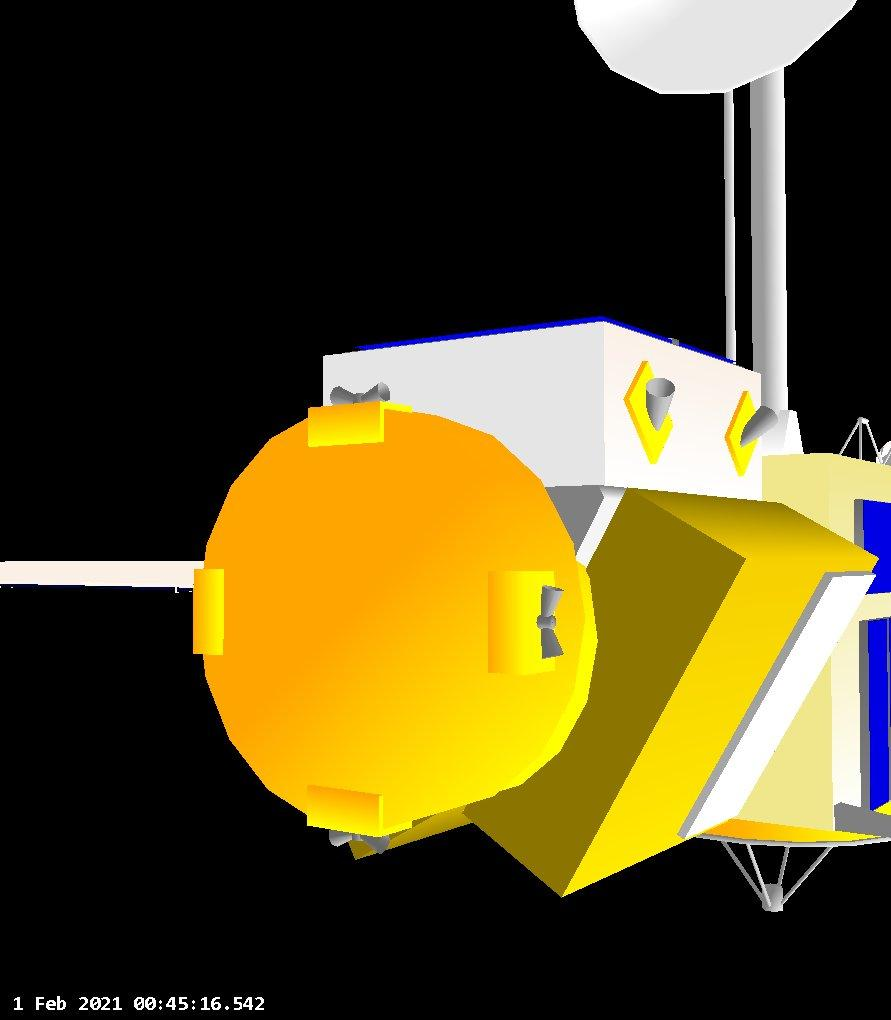antenna: (569, 0, 859, 98), (689, 831, 891, 916), (0, 550, 206, 597), (835, 411, 882, 471)
solar: (355, 308, 736, 371), (858, 612, 891, 811), (849, 494, 891, 597)
thruster: (644, 371, 680, 432), (736, 404, 781, 449), (539, 580, 566, 623), (539, 624, 565, 660), (362, 379, 393, 407), (362, 828, 392, 856), (328, 382, 358, 409), (325, 827, 358, 848)
